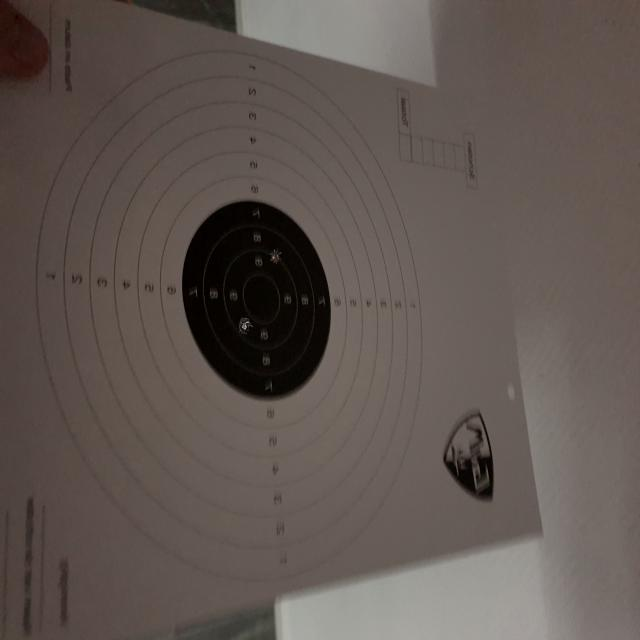9: (238, 318, 254, 334), (269, 247, 282, 264)
Target: (35, 45, 422, 585)
black_contour: (182, 200, 332, 400)
